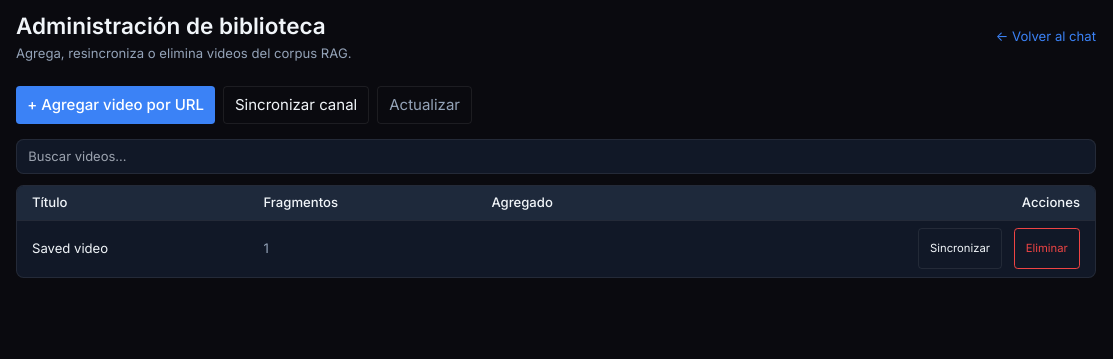
Scenario: admin library recovery › keeps previous results visible when refresh fails
Expected: the link "Saved video" is shown, [32,240,108,256]
Click the button "Actualizar" at x=425, y=104, box [377,86,472,124]
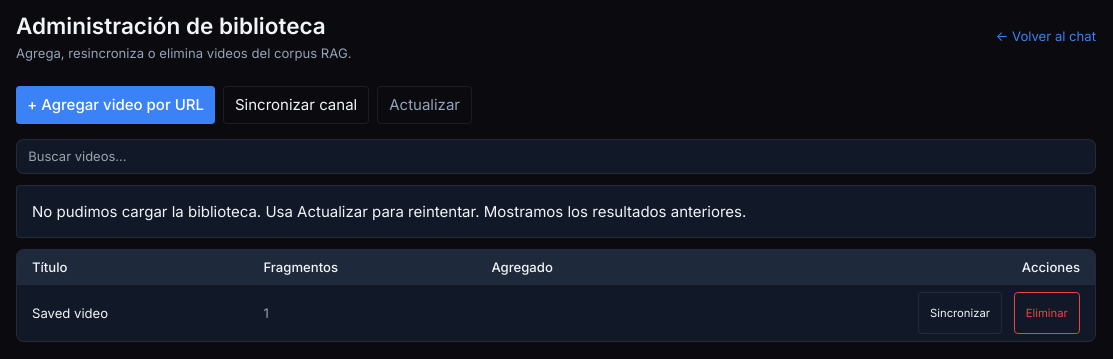
Expected: the link "Saved video" is shown, [32,305,108,321]
Now the message shows "resultados anteriores", box [480,202,746,221]
